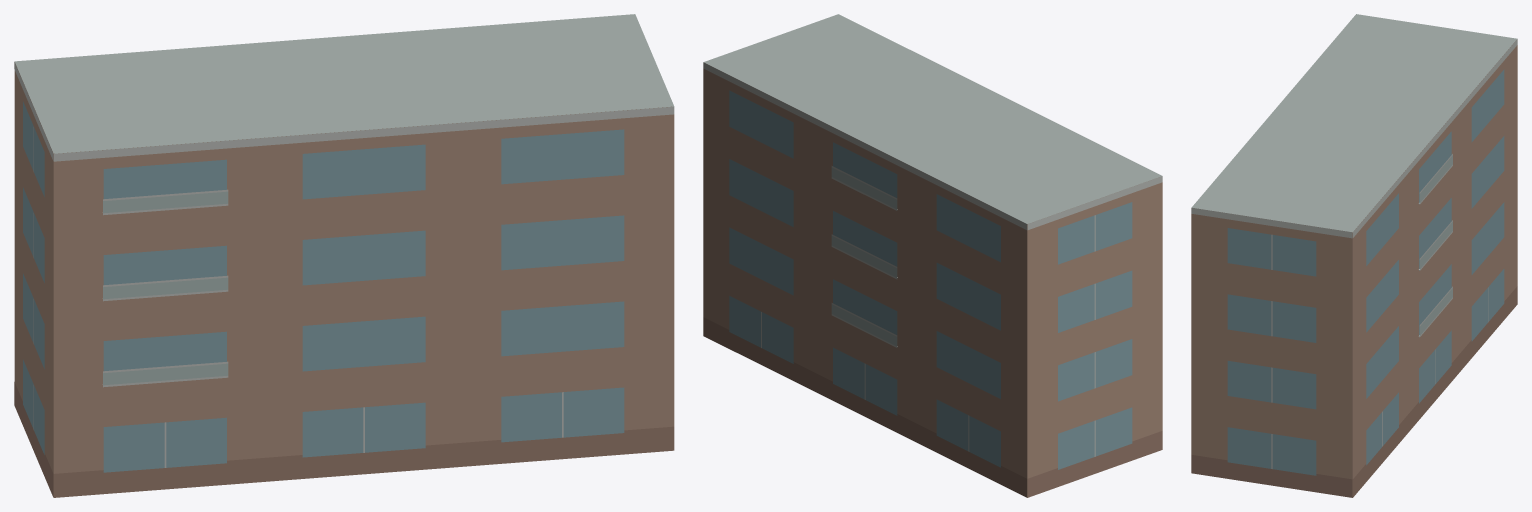
The model's file is survey-upis-32884212.glb.
The picture shows the model from 3 angles, left to right: view 1: azimuth 30°, elevation 25°; view 2: azimuth 150°, elevation 25°; view 3: azimuth 270°, elevation 25°; orthographic projection. The views are drawn at different scales.
Visible parts, largest first — view 1: survey-upis-32884212.tmp; view 2: survey-upis-32884212.tmp; view 3: survey-upis-32884212.tmp.
Boxes of the visible parts, x1,y1,x2,y2 form: survey-upis-32884212.tmp: (14,14,674,497); survey-upis-32884212.tmp: (703,14,1162,497); survey-upis-32884212.tmp: (1191,14,1517,497).
Bounding box in the file's own units: 18.69 × 10.6 × 11.81.
